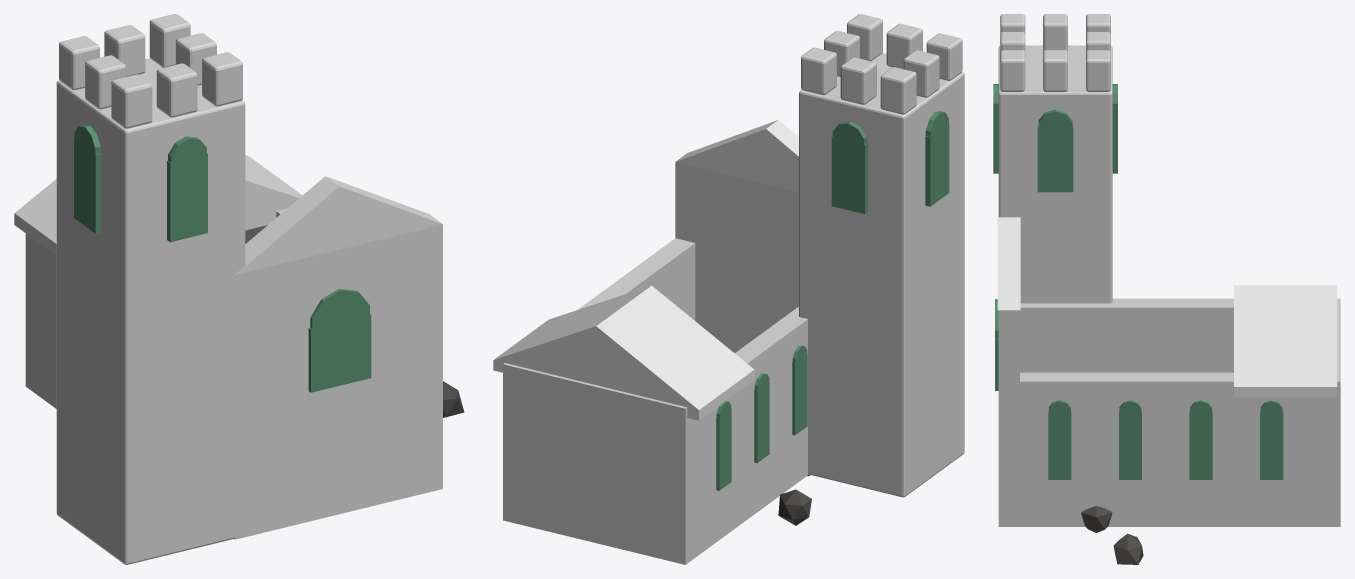
The model's file is haunt_chapel.fbx.
3 renders of one model, left to right at view 1: azimuth 30°, elevation 25°; view 2: azimuth 150°, elevation 25°; view 3: azimuth 270°, elevation 25°, orthographic. The views are drawn at different scales.
Parts seen in each view (by area): view 1: grime_1, shingle_1, window_1, rubble_1; view 2: grime_1, shingle_1, window_1, rubble_1; view 3: grime_1, shingle_1, window_1, rubble_1.
Part boxes in pixels (x1,y1,x2,y2): grime_1: (25, 14, 442, 564); shingle_1: (14, 155, 442, 274); window_1: (74, 124, 371, 392); rubble_1: (443, 381, 464, 417); grime_1: (503, 14, 964, 564); shingle_1: (493, 120, 798, 420); window_1: (716, 111, 949, 490); rubble_1: (778, 474, 811, 525); grime_1: (998, 14, 1340, 526); shingle_1: (997, 217, 1337, 396); window_1: (993, 84, 1283, 479); rubble_1: (1081, 506, 1143, 564).
Bounding box in the file's own units: 2.21 × 2.48 × 1.95.
